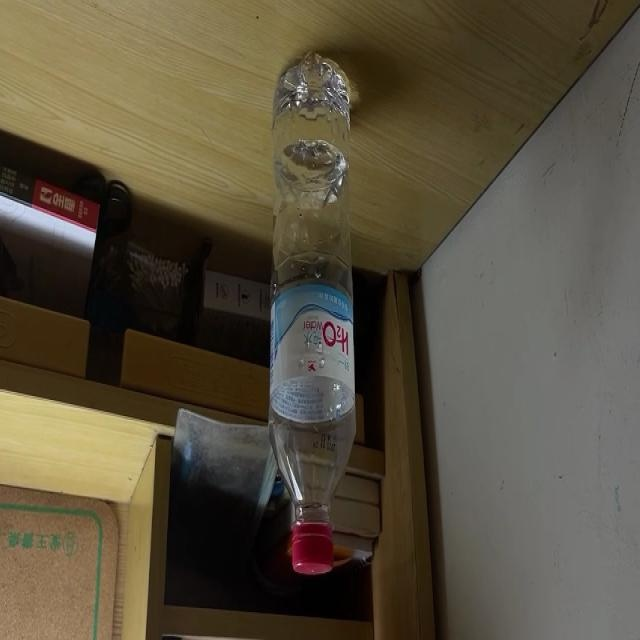Water: (270, 52, 356, 577)
